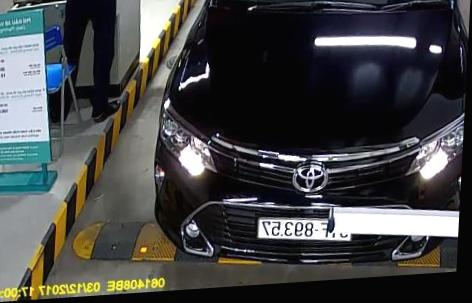License_Plate: (254, 213, 352, 246)
